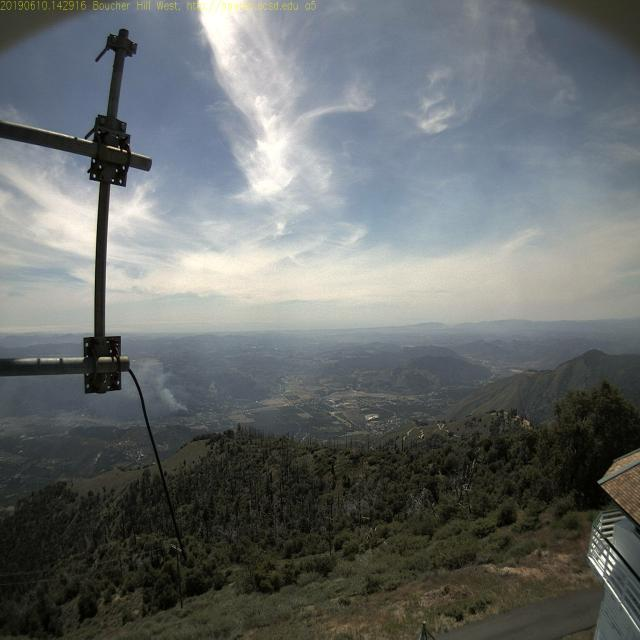smoke: (172, 386, 200, 425)
